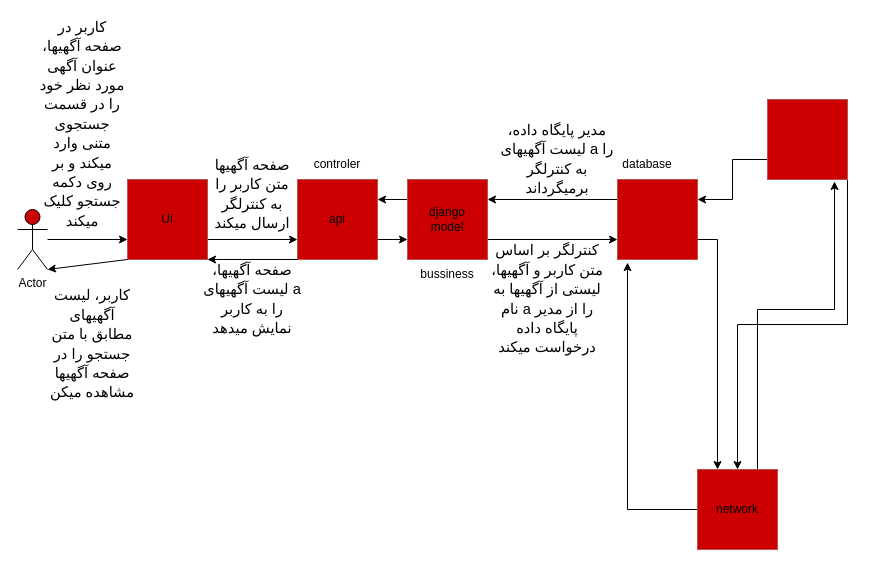
This 873x567 diagram has some shape labels left out. The shapes that lost their labels are listed below. From the top down, each one's box as (x1, y1, x2, y2) in pixels, then its label:
(766, 98, 848, 180): crawling system
(616, 178, 698, 260): database manager
